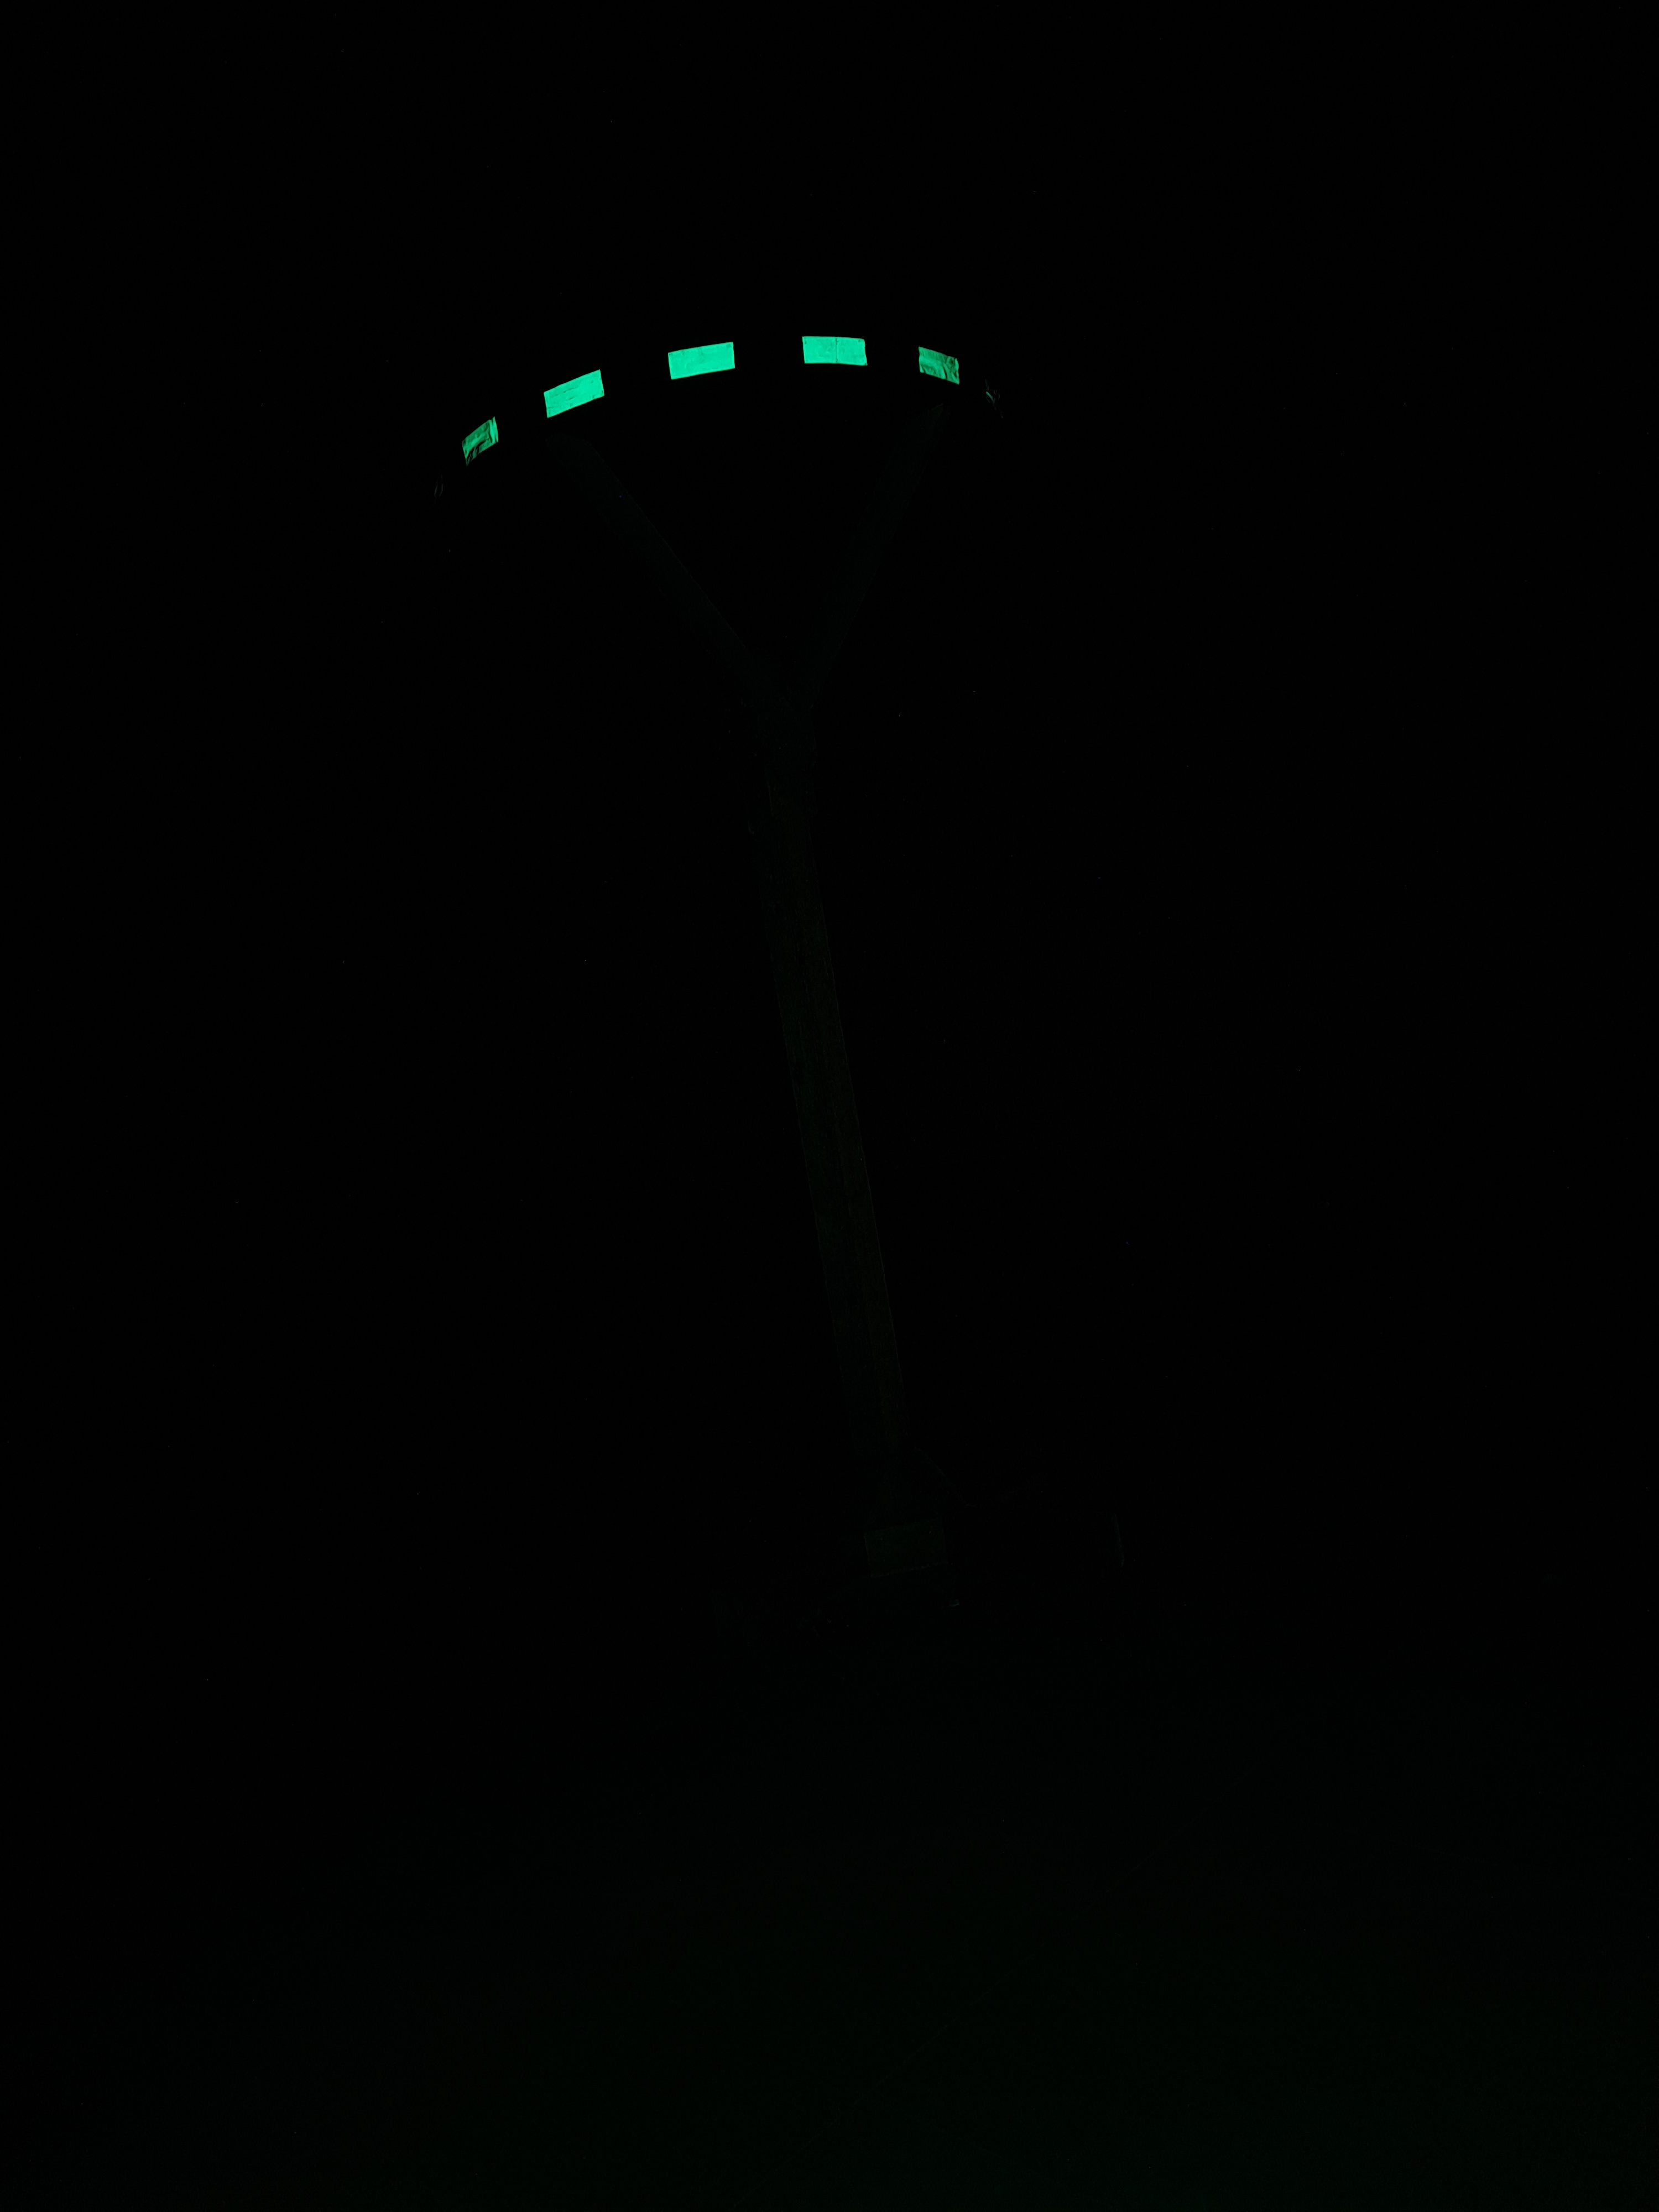hoop: (455, 319, 962, 469)
